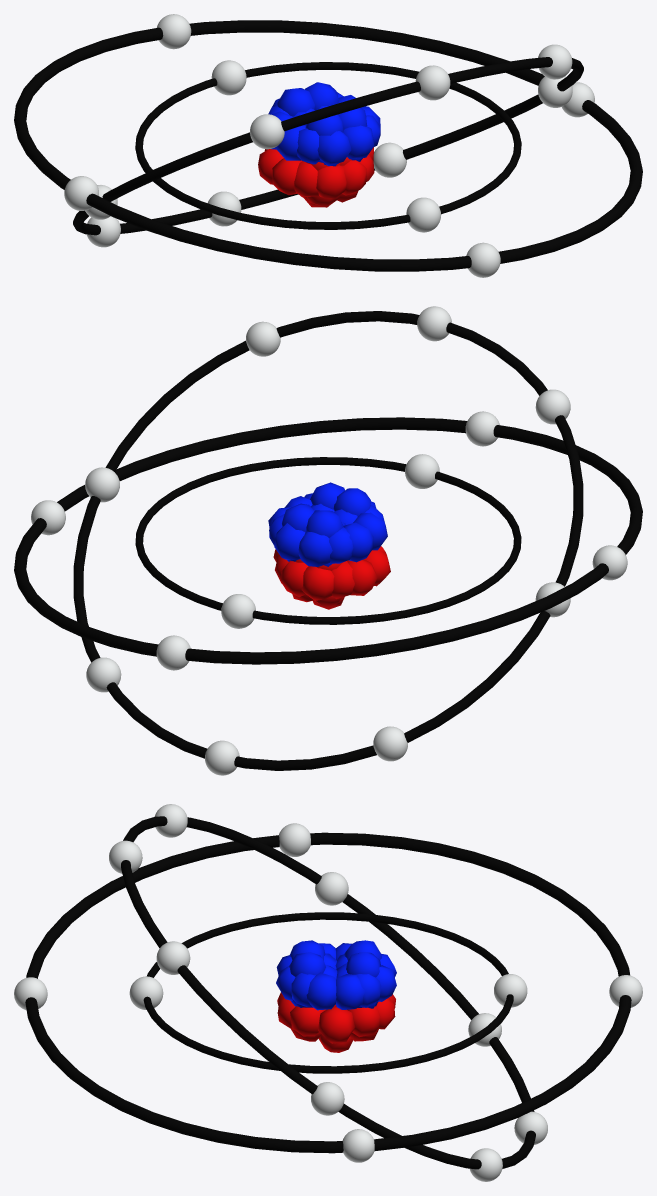
The model's file is 14 Silicio.fbx.
The picture shows the model from 3 angles, top to bottom: view 1: azimuth 30°, elevation 25°; view 2: azimuth 150°, elevation 25°; view 3: azimuth 270°, elevation 25°; orthographic projection. The views are drawn at different scales.
Parts seen in each view (by area): view 1: Orbita.003, Nucleo.001, Orbita.002, Orbita.001, Electron.009, Electron, Electron.001, Electron.004, Electron.002, Electron.011, Electron.005, Electron.012 (+5 smaller); view 2: Orbita.003, Orbita.002, Nucleo.001, Orbita.001, Electron.006, Electron.010, Electron.001, Electron, Electron.008, Electron.003, Electron.002, Electron.005 (+5 smaller); view 3: Orbita.003, Nucleo.001, Orbita.002, Orbita.001, Electron.013, Electron.012, Electron.007, Electron.008, Electron.010, Electron.001, Electron, Electron.004 (+6 smaller).
Boxes of the visible parts, left/top/right/bottom form: Orbita.003: left=14, top=20, right=642, bottom=271; Nucleo.001: left=258, top=82, right=380, bottom=207; Orbita.002: left=73, top=57, right=583, bottom=235; Orbita.001: left=135, top=62, right=521, bottom=229; Electron.009: left=250, top=114, right=284, bottom=149; Electron: left=406, top=197, right=441, bottom=232; Electron.001: left=211, top=60, right=246, bottom=95; Electron.004: left=373, top=142, right=406, bottom=177; Electron.002: left=415, top=65, right=450, bottom=100; Electron.011: left=466, top=242, right=500, bottom=277; Electron.005: left=157, top=14, right=191, bottom=49; Electron.012: left=64, top=176, right=98, bottom=210; Orbita.003: left=14, top=417, right=642, bottom=664; Orbita.002: left=73, top=311, right=583, bottom=770; Nucleo.001: left=268, top=482, right=390, bottom=609; Orbita.001: left=135, top=457, right=521, bottom=624; Electron.006: left=373, top=726, right=407, bottom=761; Electron.010: left=246, top=321, right=280, bottom=356; Electron.001: left=221, top=594, right=255, bottom=628; Electron: left=405, top=454, right=439, bottom=488; Electron.008: left=85, top=467, right=119, bottom=502; Electron.003: left=205, top=740, right=239, bottom=775; Electron.002: left=417, top=306, right=451, bottom=341; Electron.005: left=156, top=635, right=190, bottom=670; Orbita.003: left=25, top=832, right=631, bottom=1153; Nucleo.001: left=276, top=940, right=396, bottom=1052; Orbita.002: left=121, top=816, right=535, bottom=1169; Orbita.001: left=143, top=912, right=513, bottom=1073; Electron.013: left=342, top=1129, right=374, bottom=1162; Electron.012: left=279, top=823, right=310, bottom=856; Electron.007: left=315, top=872, right=348, bottom=905; Electron.008: left=311, top=1082, right=344, bottom=1115; Electron.010: left=156, top=941, right=190, bottom=974; Electron.001: left=494, top=974, right=527, bottom=1007; Electron: left=129, top=976, right=163, bottom=1009; Electron.004: left=470, top=1148, right=502, bottom=1181.
Size of the model in its own units: 12.57 by 12.42 by 6.63.
